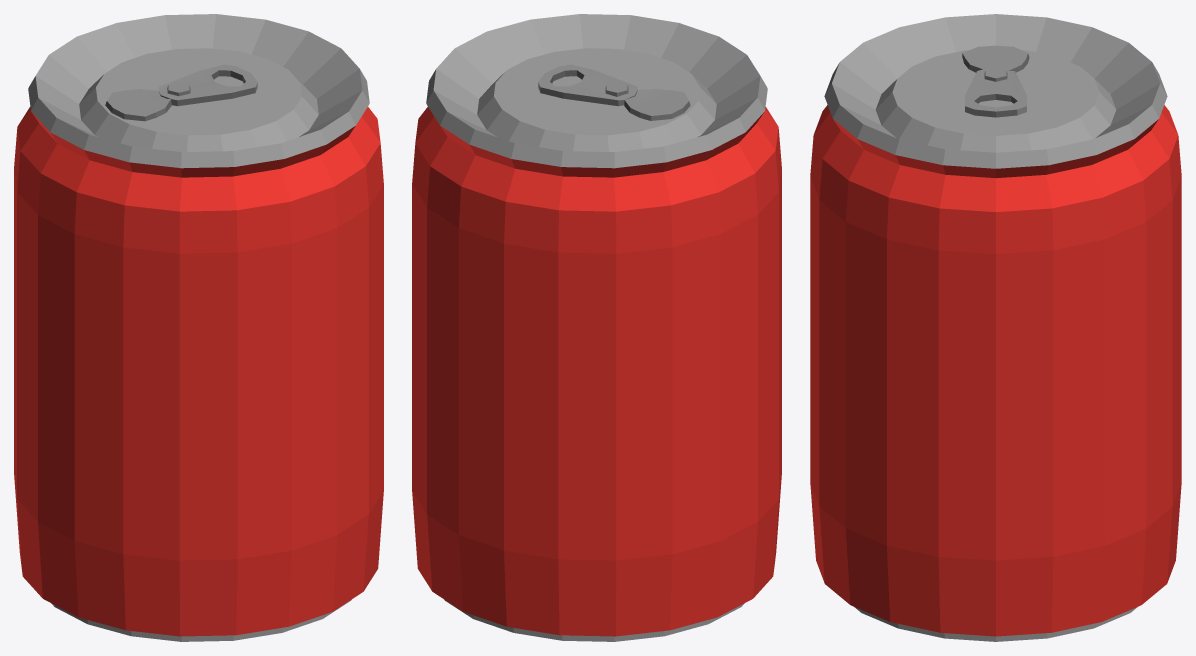
The model's file is Can_01.fbx.
The picture shows the model from 3 angles, left to right: view 1: azimuth 30°, elevation 25°; view 2: azimuth 150°, elevation 25°; view 3: azimuth 270°, elevation 25°; orthographic projection.
Visible parts, largest first — view 1: Can_01; view 2: Can_01; view 3: Can_01.
Boxes of the visible parts, x1=… form: Can_01: x1=14, y1=14, x2=383, y2=641; Can_01: x1=412, y1=14, x2=781, y2=641; Can_01: x1=810, y1=14, x2=1181, y2=641.
Size of the model in its own units: 9.52 by 13.81 by 9.52.
